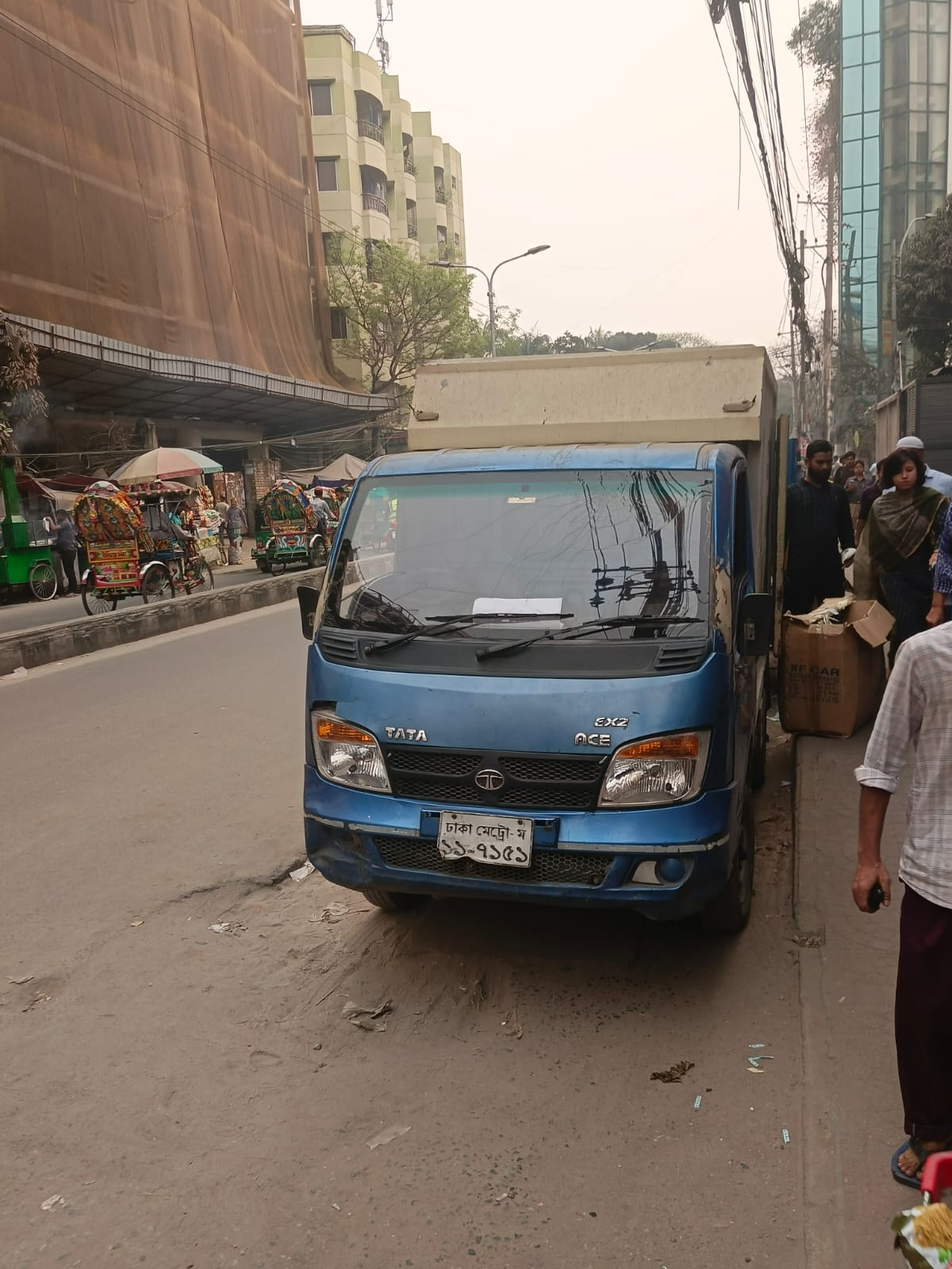Truck: (290, 330, 804, 980)
